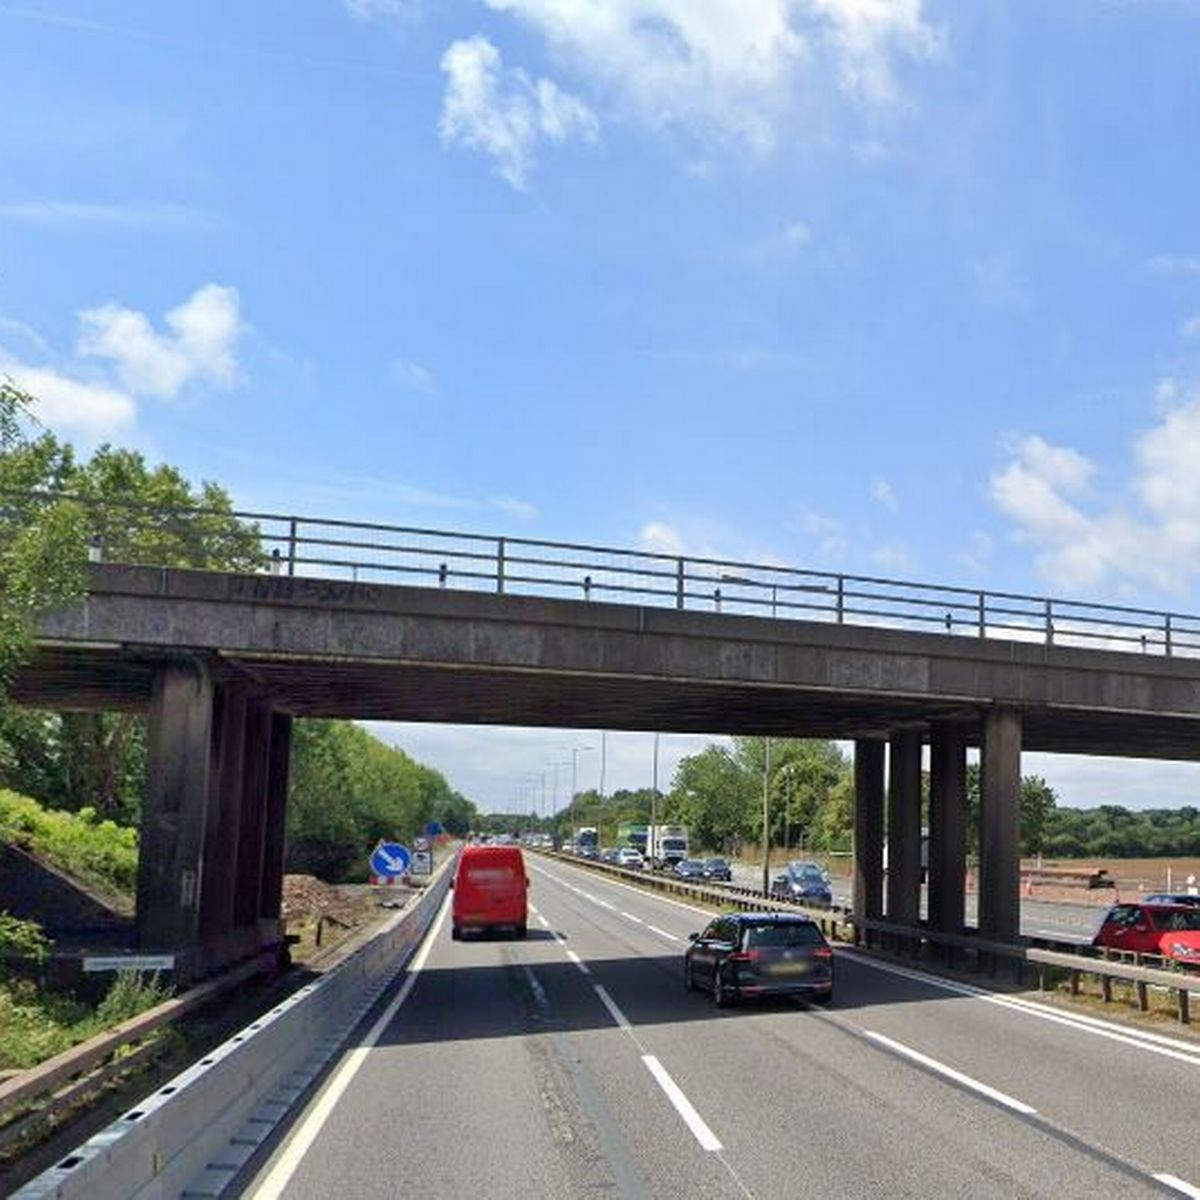bridge: (1, 488, 1200, 977)
